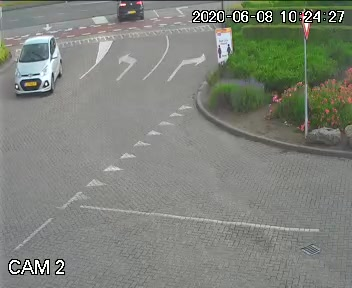car: (9, 31, 75, 101), (112, 0, 144, 24)
